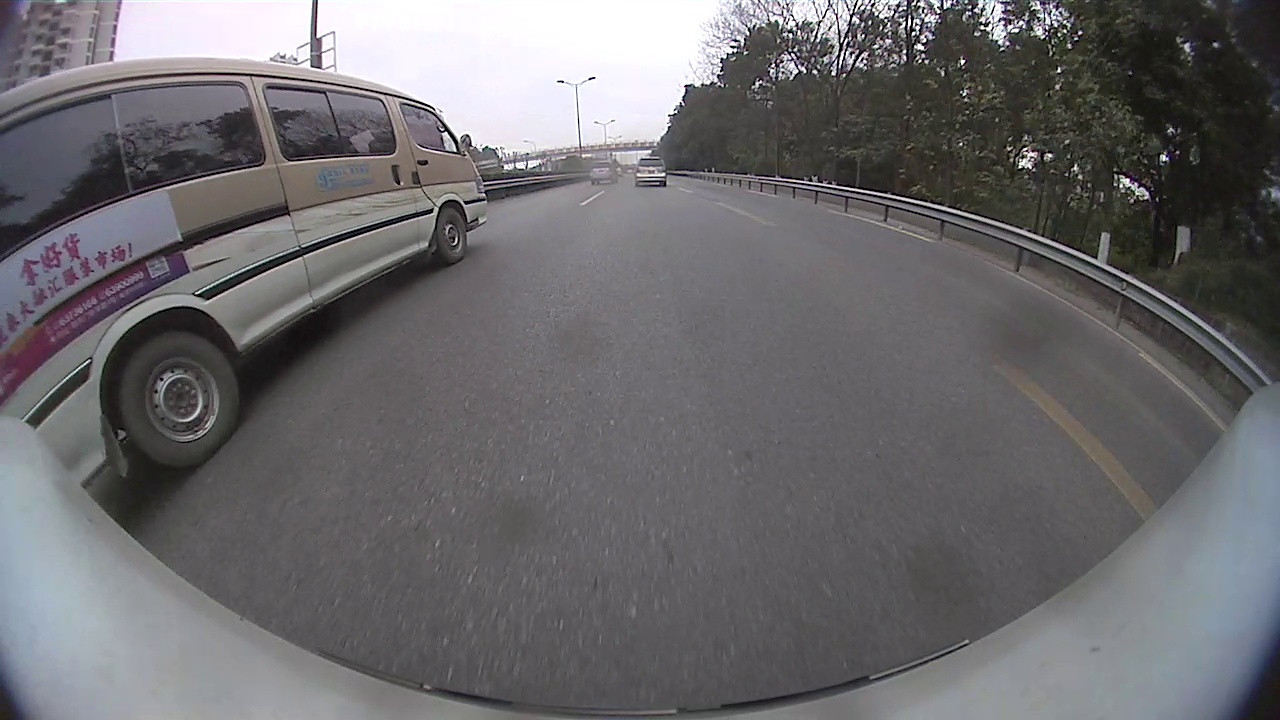car: (3, 52, 493, 494), (635, 157, 667, 187), (588, 160, 620, 185)
front: (434, 207, 472, 261)
rear: (117, 328, 245, 475)
